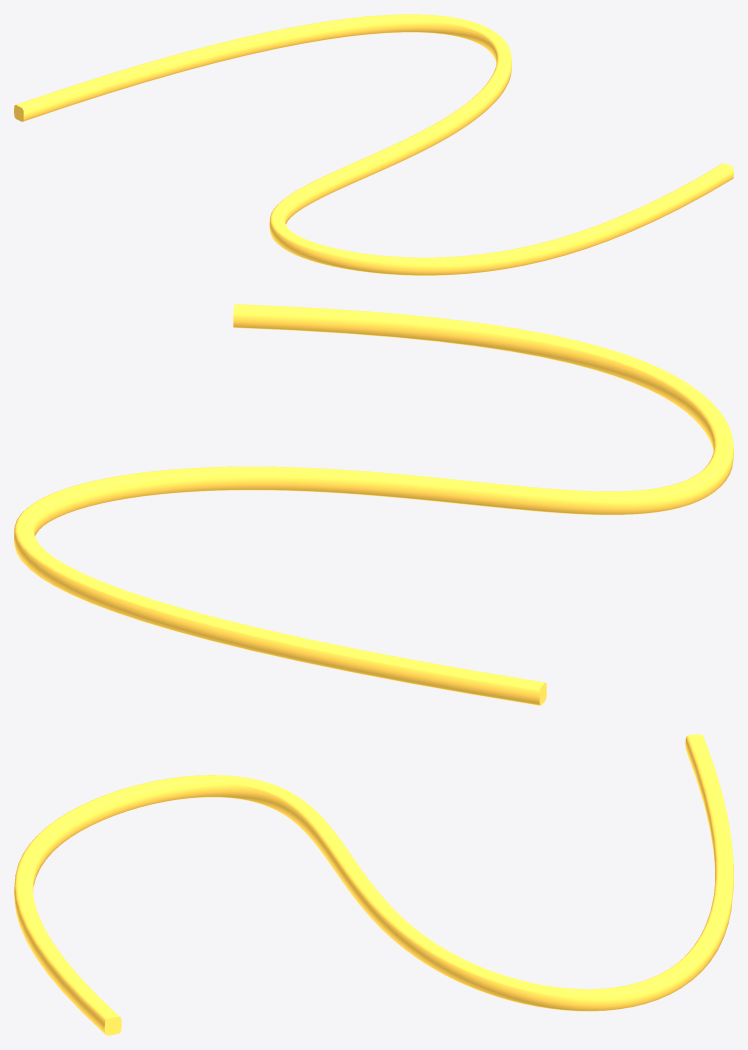
The model's file is 260808_MayoSauce_small_01.fbx.
The picture shows the model from 3 angles, top to bottom: view 1: azimuth 30°, elevation 25°; view 2: azimuth 150°, elevation 25°; view 3: azimuth 270°, elevation 25°; orthographic projection. The views are drawn at different scales.
Visible parts, largest first — view 1: Mayo_small; view 2: Mayo_small; view 3: Mayo_small.
Part boxes in pixels (x1,y1,x2,y2): Mayo_small: [14, 14, 733, 275]; Mayo_small: [14, 304, 733, 705]; Mayo_small: [14, 734, 733, 1035].
Size of the model in its own units: 70.85 by 2 by 75.51.
